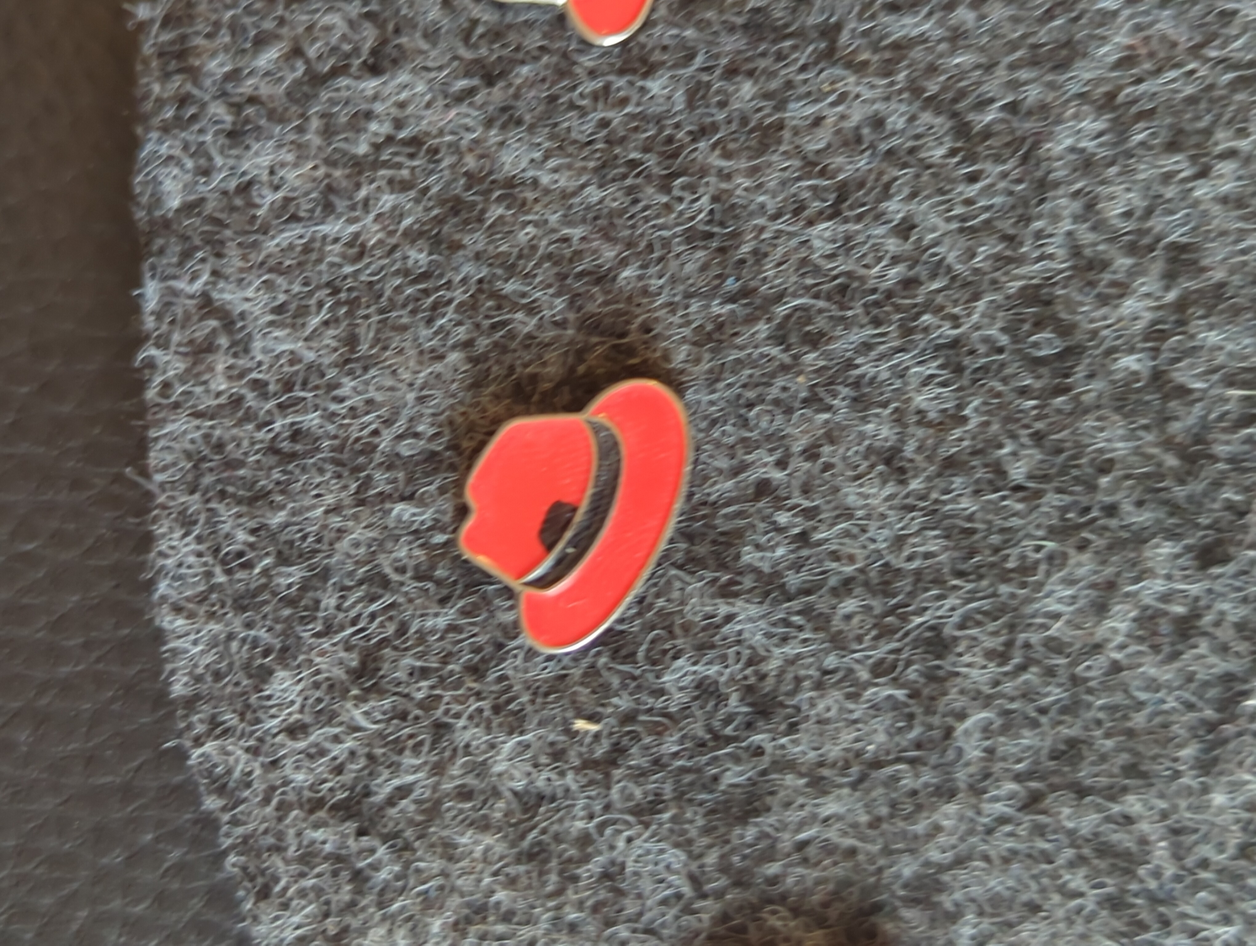Red-Hat: (376, 286, 781, 724)
Scratch: (517, 473, 620, 597)
